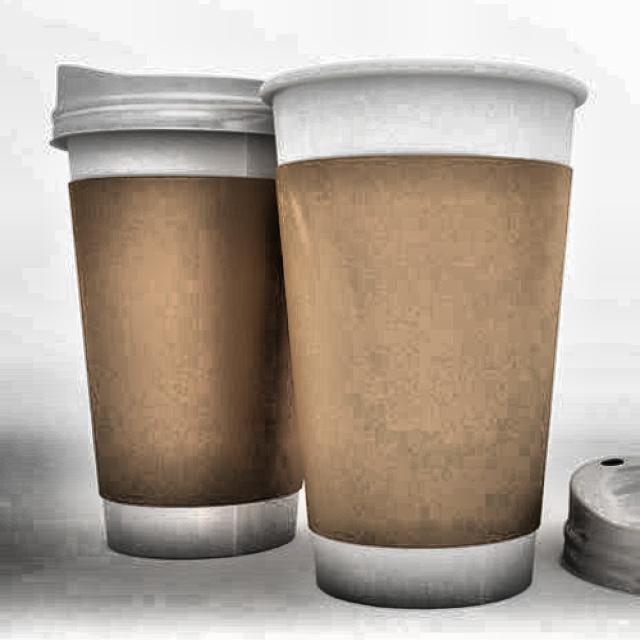Cup: (247, 61, 593, 614), (48, 83, 309, 570)
